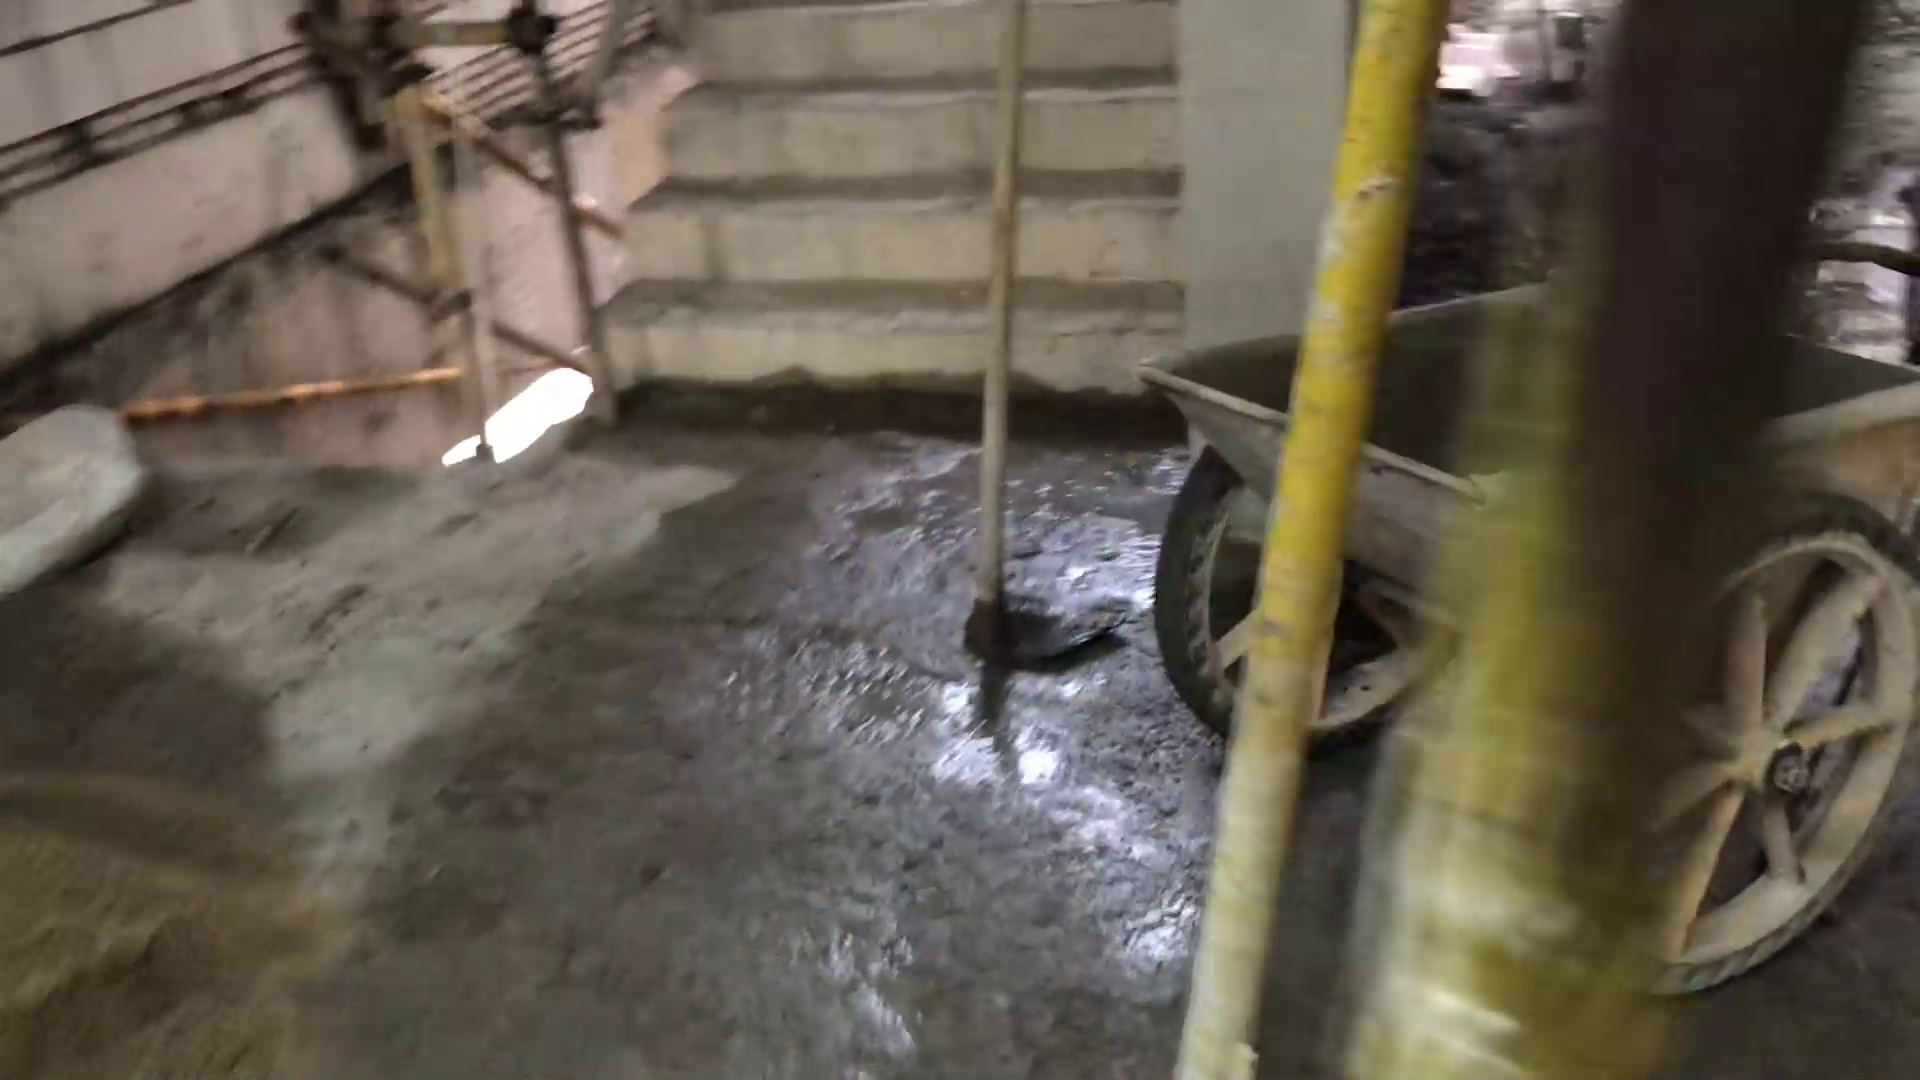handcart: (1118, 327, 1920, 963)
